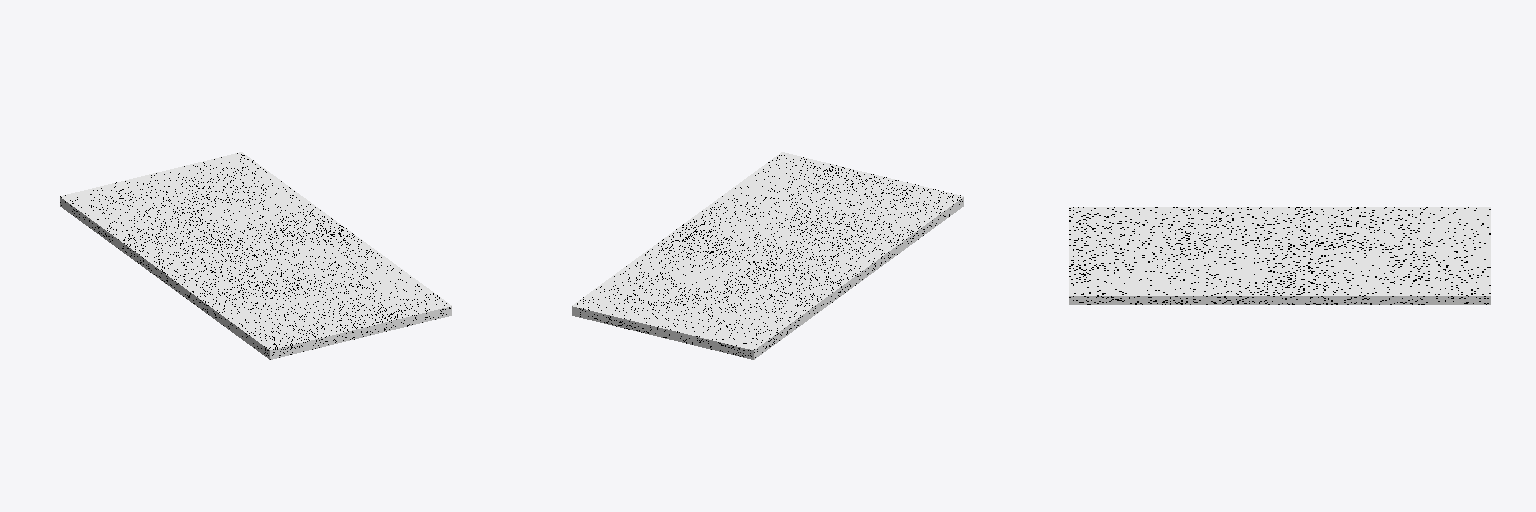
3 renders of one model, left to right at view 1: azimuth 30°, elevation 25°; view 2: azimuth 150°, elevation 25°; view 3: azimuth 270°, elevation 25°, orthographic.
Parts seen in each view (by area): view 1: Podloga.NR3_Cube.005; view 2: Podloga.NR3_Cube.005; view 3: Podloga.NR3_Cube.005.
Part boxes in pixels (bbox=[...]): Podloga.NR3_Cube.005: bbox=[60, 152, 451, 359]; Podloga.NR3_Cube.005: bbox=[572, 152, 963, 359]; Podloga.NR3_Cube.005: bbox=[1069, 207, 1490, 304].
Size of the model in its own units: 10 by 0.5 by 20.
Materials: 1 (1 with a texture image).